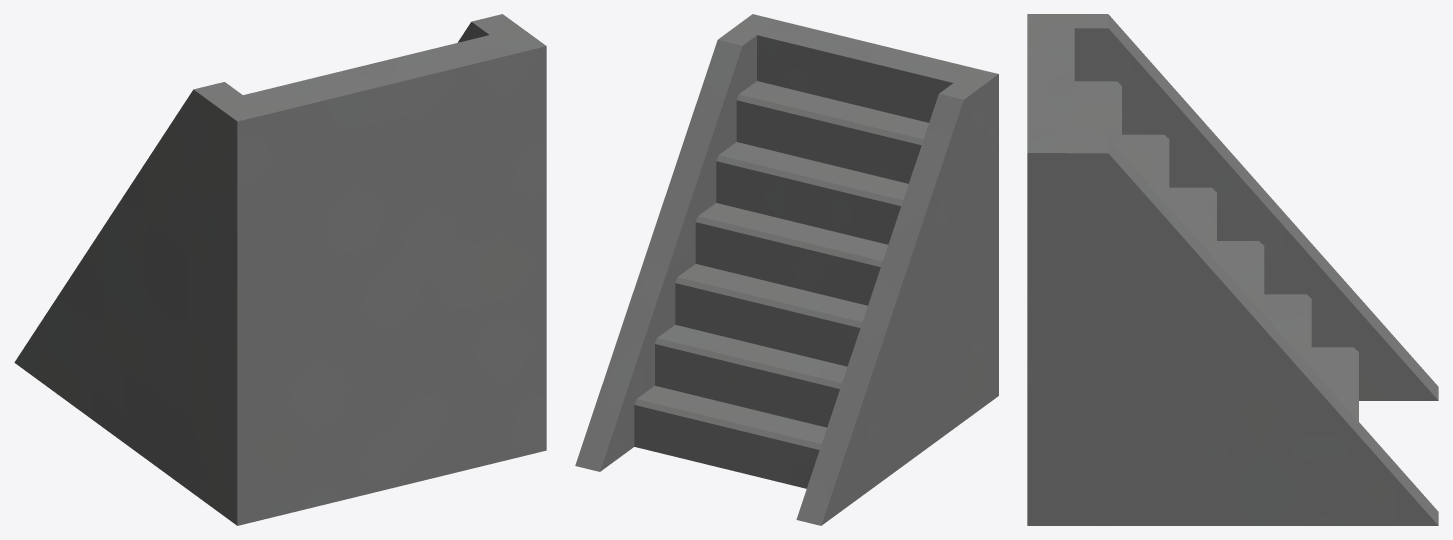
File: Stair.fbx
3 views of the same model, side by side, from view 1: azimuth 30°, elevation 25°; view 2: azimuth 150°, elevation 25°; view 3: azimuth 270°, elevation 25° (orthographic). The views are drawn at different scales.
Parts seen in each view (by area): view 1: Stair; view 2: Stair; view 3: Stair.
Boxes of the visible parts, x1,y1,x2,y2 form: Stair: (14, 14, 546, 525); Stair: (575, 14, 998, 525); Stair: (1027, 14, 1438, 525).
Size of the model in its own units: 100 by 125 by 125.
